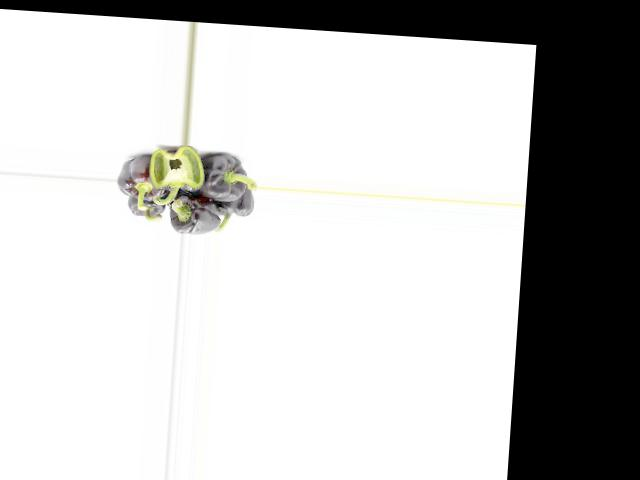bell_pepper: (117, 155, 176, 202)
